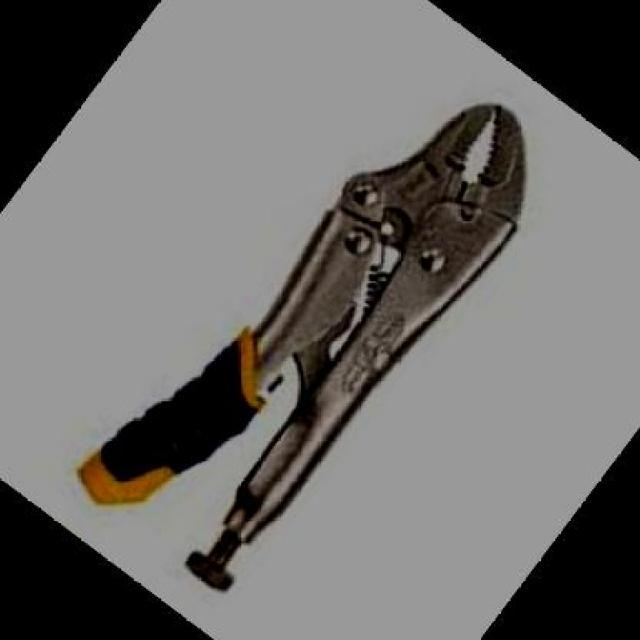pliers: (35, 11, 611, 638)
